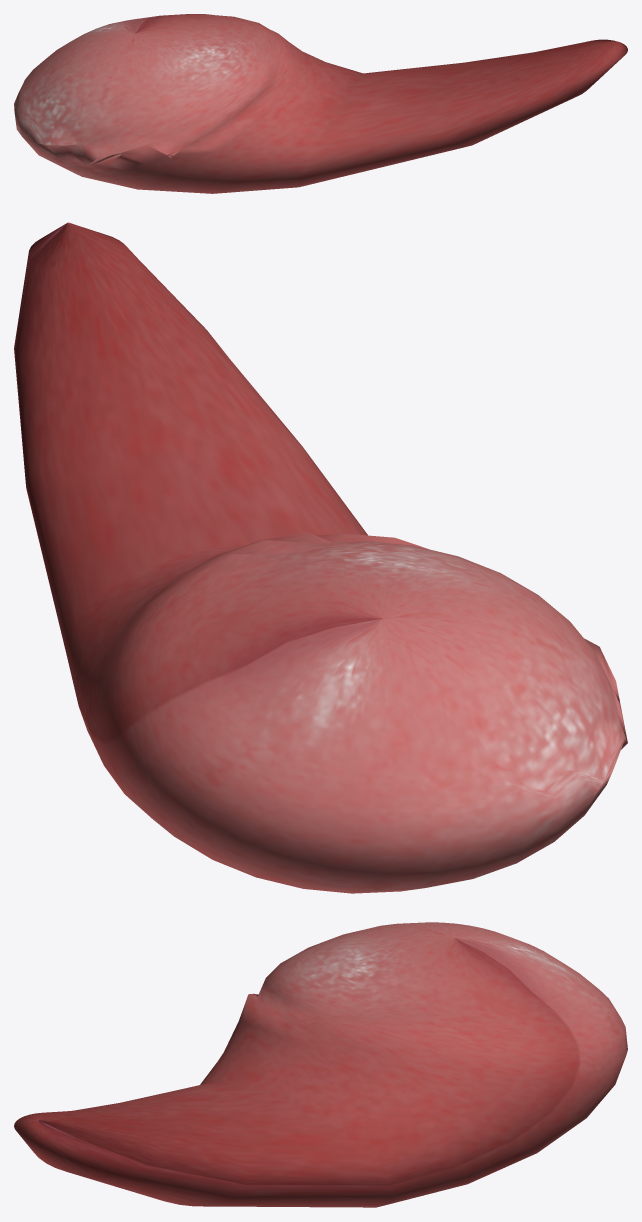
Rendered from Tongue.fbx.
3 renders of one model, top to bottom at view 1: azimuth 30°, elevation 25°; view 2: azimuth 150°, elevation 25°; view 3: azimuth 270°, elevation 25°, orthographic. The views are drawn at different scales.
Parts seen in each view (by area): view 1: Sphere001; view 2: Sphere001; view 3: Sphere001.
Boxes of the visible parts, left/top/right/bottom form: Sphere001: left=14, top=14, right=627, bottom=193; Sphere001: left=14, top=222, right=627, bottom=893; Sphere001: left=14, top=922, right=627, bottom=1207.
Size of the model in its own units: 95.44 by 33.12 by 83.38.
Materials: 1 (1 with a texture image).
